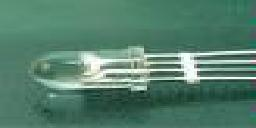LED: (27, 46, 256, 91)
